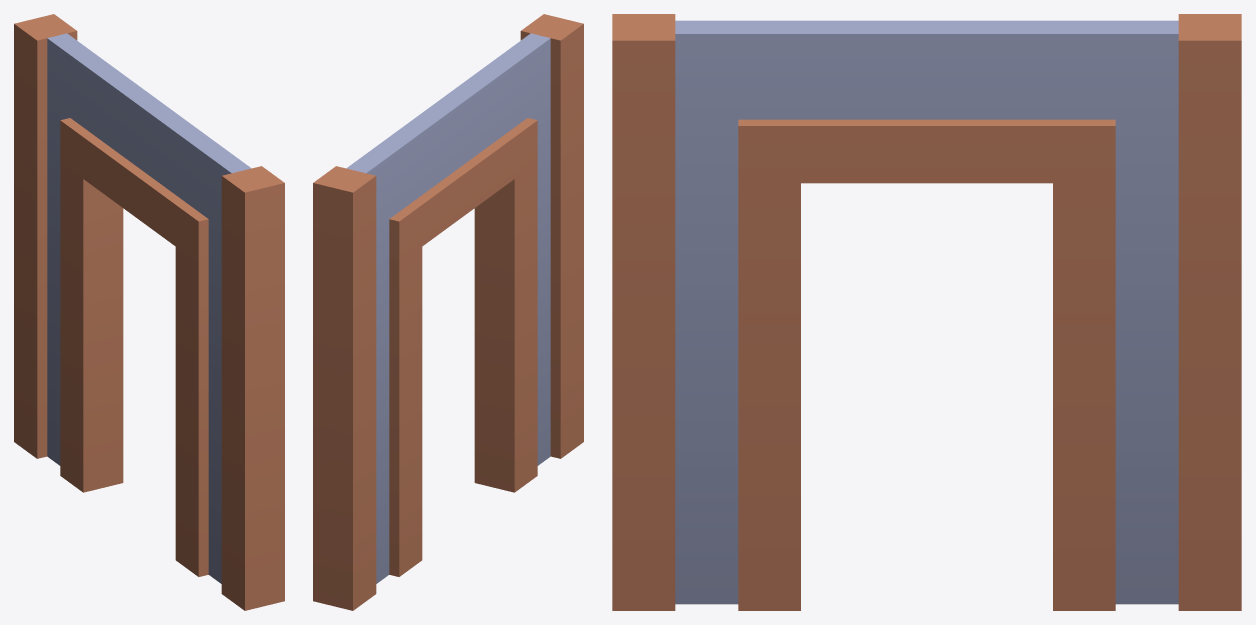
Rendered from gate-kn-wall-doorway-square.glb.
3 renders of one model, left to right at view 1: azimuth 30°, elevation 25°; view 2: azimuth 150°, elevation 25°; view 3: azimuth 270°, elevation 25°, orthographic. The views are drawn at different scales.
Visible parts, largest first — view 1: wall-doorway-square; view 2: wall-doorway-square; view 3: wall-doorway-square.
Part boxes in pixels (x1,y1,x2,y2): wall-doorway-square: [14, 14, 284, 610]; wall-doorway-square: [313, 14, 583, 610]; wall-doorway-square: [612, 14, 1241, 610].
Bounding box in the file's own units: 0.3 × 3 × 3.
Materials: 1 (1 with a texture image).
